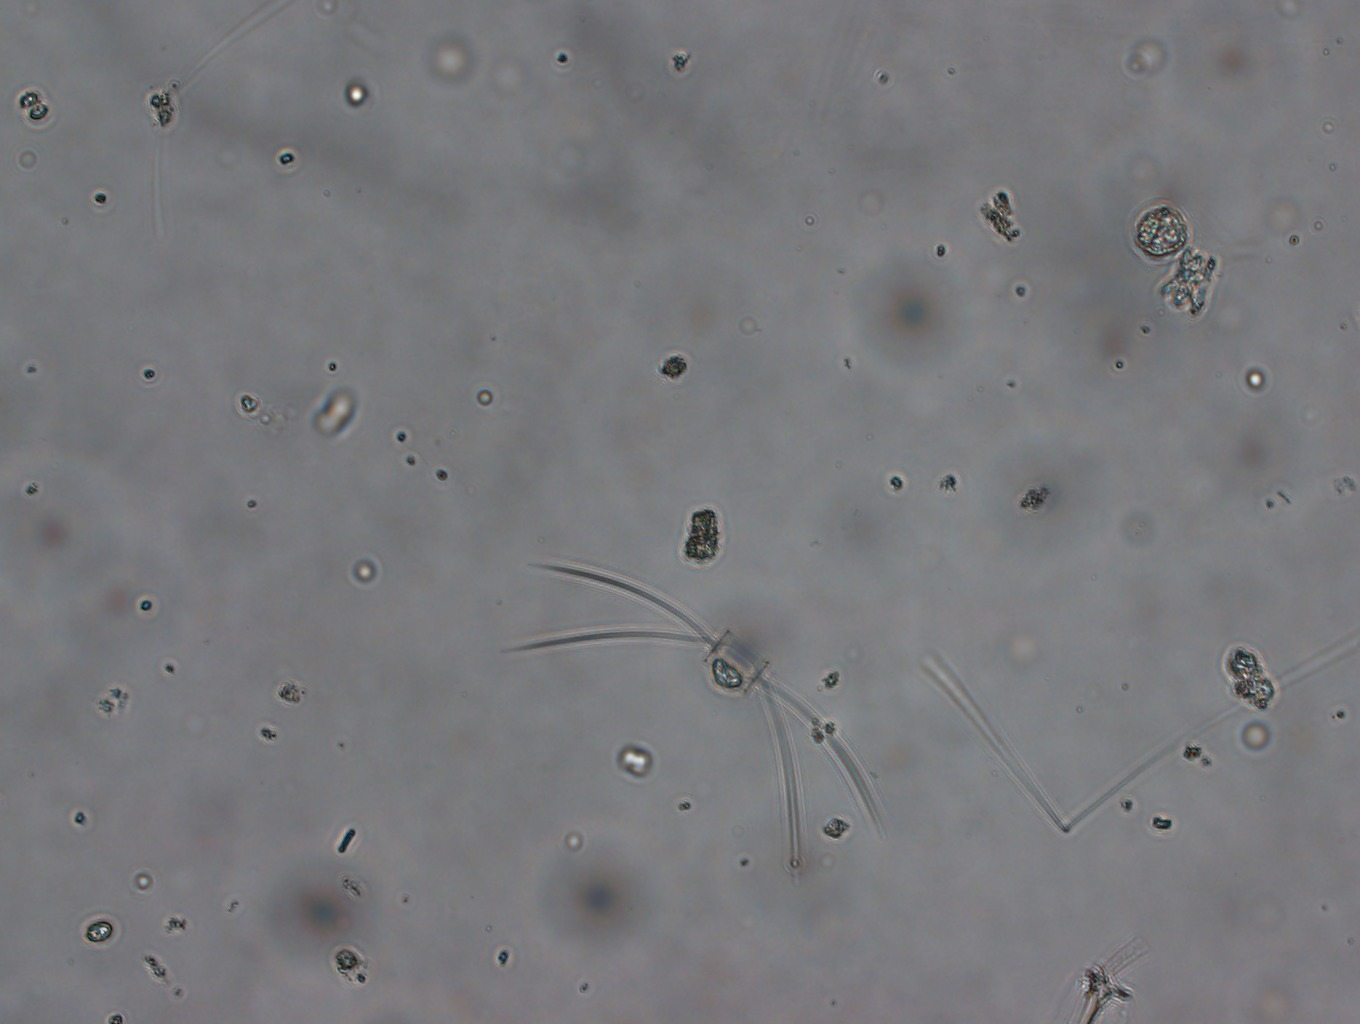chaetoceros: (490, 558, 892, 873)
